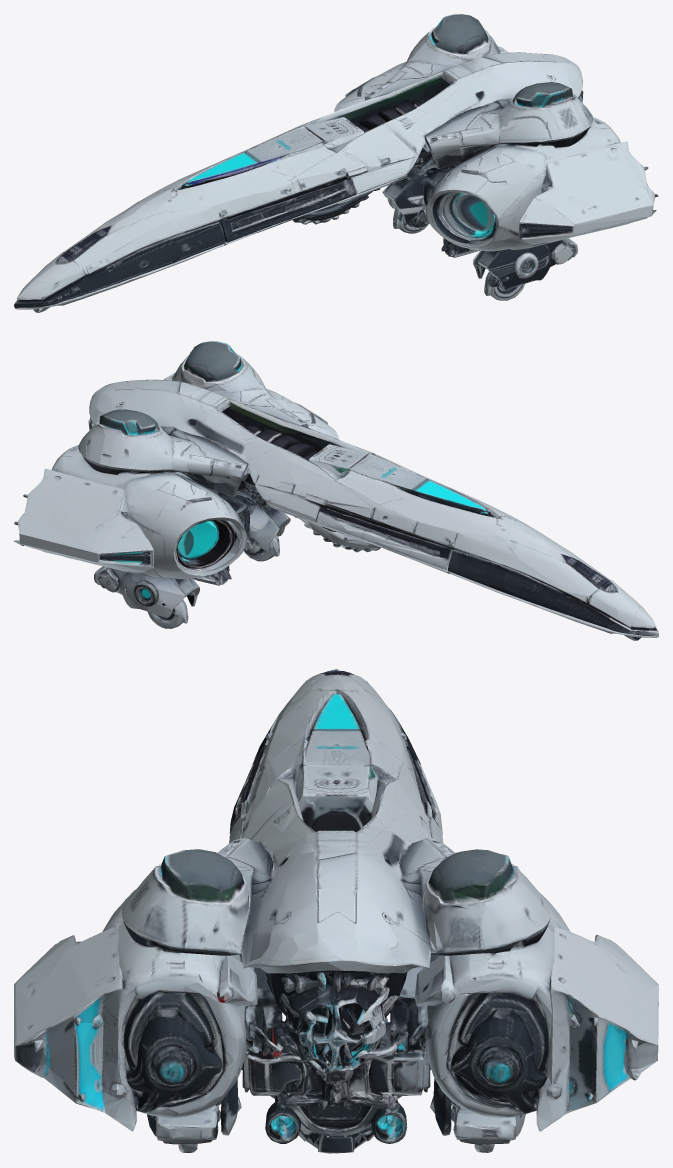
Rendered from white_armored_drone_phase_interceptor_2.glb.
3 renders of one model, top to bottom at view 1: azimuth 30°, elevation 25°; view 2: azimuth 150°, elevation 25°; view 3: azimuth 270°, elevation 25°, orthographic. The views are drawn at different scales.
Size of the model in its own units: 1.43 by 0.4855 by 0.8718.
Materials: 1 (1 with a texture image).
